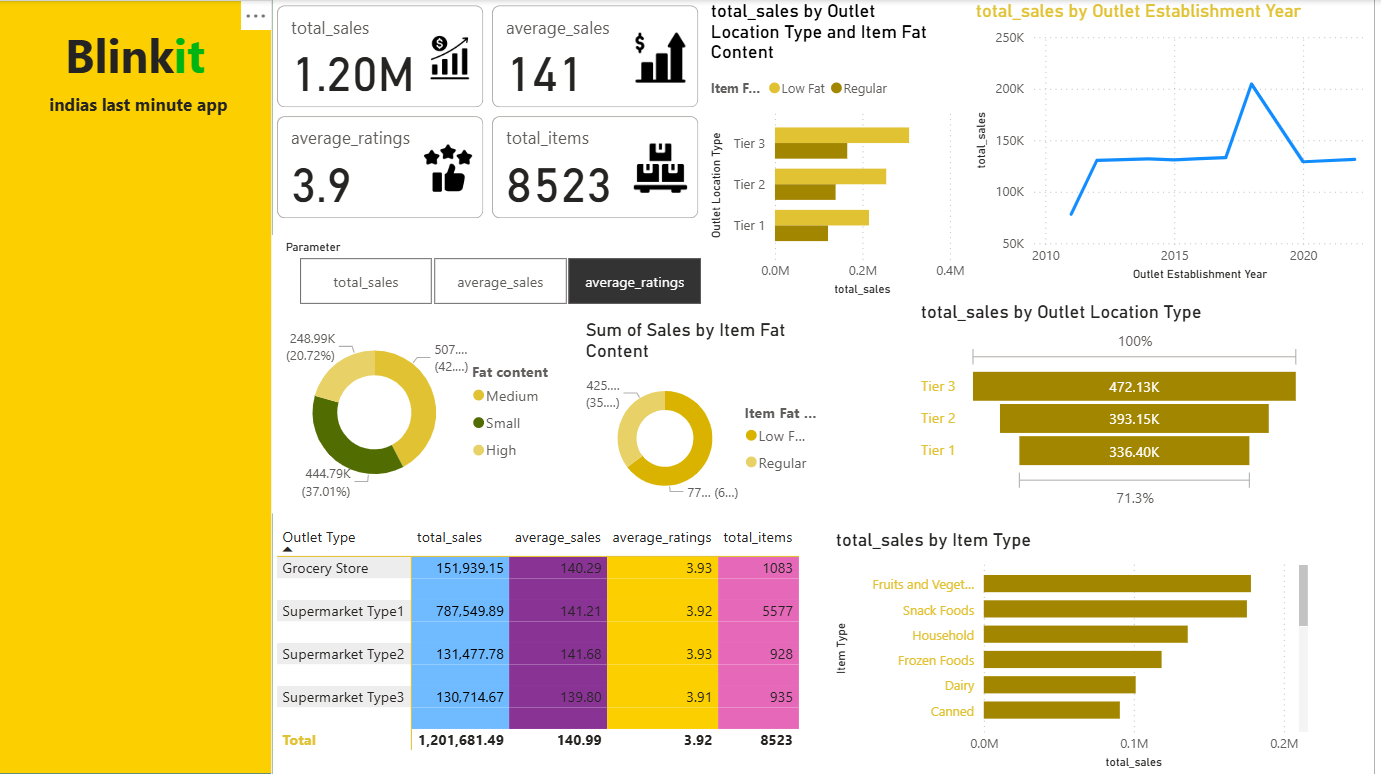

This screenshot's page, from the dashboard's own definition file:
{"tool":"powerbi","page":{"name":"Page 1","canvas":[1280,720],"ordinal":0},"visuals":[{"type":"cardVisual","fields":{"Data":["BlinkIT Grocery Data.total_sales","BlinkIT Grocery Data.average_sales","BlinkIT Grocery Data.average_ratings","BlinkIT Grocery Data.total_items"]},"box":[254.7,0,403.5,208.1],"z":0},{"type":"shape","box":[0,0,255.2,720.4],"z":1000},{"type":"textbox","box":[0,16.3,254.7,104.7],"z":2000},{"type":"donutChart","fields":{"Category":["BlinkIT Grocery Data.Item Fat Content"],"Y":["Sum(BlinkIT Grocery Data.Sales)"]},"box":[541.9,296.5,232.6,181.4],"z":3000},{"type":"donutChart","fields":{"Category":["BlinkIT Grocery Data.Outlet Size"],"Y":["BlinkIT Grocery Data.total_sales"]},"box":[254.7,289.5,280.2,188.4],"z":4000},{"type":"lineChart","fields":{"Y":["BlinkIT Grocery Data.total_sales"],"Category":["BlinkIT Grocery Data.Outlet Establishment Year"]},"box":[904.7,0,375.6,266.3],"z":5000},{"type":"funnel","fields":{"Category":["BlinkIT Grocery Data.Outlet Location Type"],"Y":["BlinkIT Grocery Data.total_sales"]},"box":[853.5,280.2,364,197.7],"z":6000},{"type":"slicer","fields":{"Values":["Parameter.Parameter"]},"box":[254.7,218.6,423.3,70.9],"z":7000},{"type":"pivotTable","fields":{"Rows":["BlinkIT Grocery Data.Outlet Type"],"Values":["BlinkIT Grocery Data.total_sales","BlinkIT Grocery Data.average_sales","BlinkIT Grocery Data.average_ratings","BlinkIT Grocery Data.total_items"]},"box":[254.7,483.7,526.7,225.6],"z":8000},{"type":"clusteredBarChart","fields":{"Y":["BlinkIT Grocery Data.total_sales"],"Category":["BlinkIT Grocery Data.Item Type"]},"box":[774.4,491.9,448.8,227.9],"z":9000},{"type":"clusteredBarChart","fields":{"Y":["BlinkIT Grocery Data.total_sales"],"Category":["BlinkIT Grocery Data.Outlet Location Type"],"Series":["BlinkIT Grocery Data.Item Fat Content"]},"box":[658.1,0,246.5,280.2],"z":10000}]}

Visuals, with their boxes in screenshot pixels (x1, y1, x2, y2), scaled from the page's 1280x720 canvas onto the 1381x774 screenshot:
cardVisual - BlinkIT Grocery Data.total_sales x BlinkIT Grocery Data.average_sales: detection(275, 0, 710, 224)
shape: detection(0, 0, 275, 773)
textbox: detection(0, 18, 275, 130)
donutChart - BlinkIT Grocery Data.Item Fat Content x Sum(BlinkIT Grocery Data.Sales): detection(585, 319, 836, 514)
donutChart - BlinkIT Grocery Data.Outlet Size x BlinkIT Grocery Data.total_sales: detection(275, 311, 577, 514)
lineChart - BlinkIT Grocery Data.total_sales x BlinkIT Grocery Data.Outlet Establishment Year: detection(976, 0, 1380, 286)
funnel - BlinkIT Grocery Data.Outlet Location Type x BlinkIT Grocery Data.total_sales: detection(921, 301, 1314, 514)
slicer - Parameter.Parameter: detection(275, 235, 731, 311)
pivotTable - BlinkIT Grocery Data.Outlet Type x BlinkIT Grocery Data.total_sales: detection(275, 520, 843, 762)
clusteredBarChart - BlinkIT Grocery Data.total_sales x BlinkIT Grocery Data.Item Type: detection(836, 529, 1320, 773)
clusteredBarChart - BlinkIT Grocery Data.total_sales x BlinkIT Grocery Data.Outlet Location Type: detection(710, 0, 976, 301)
